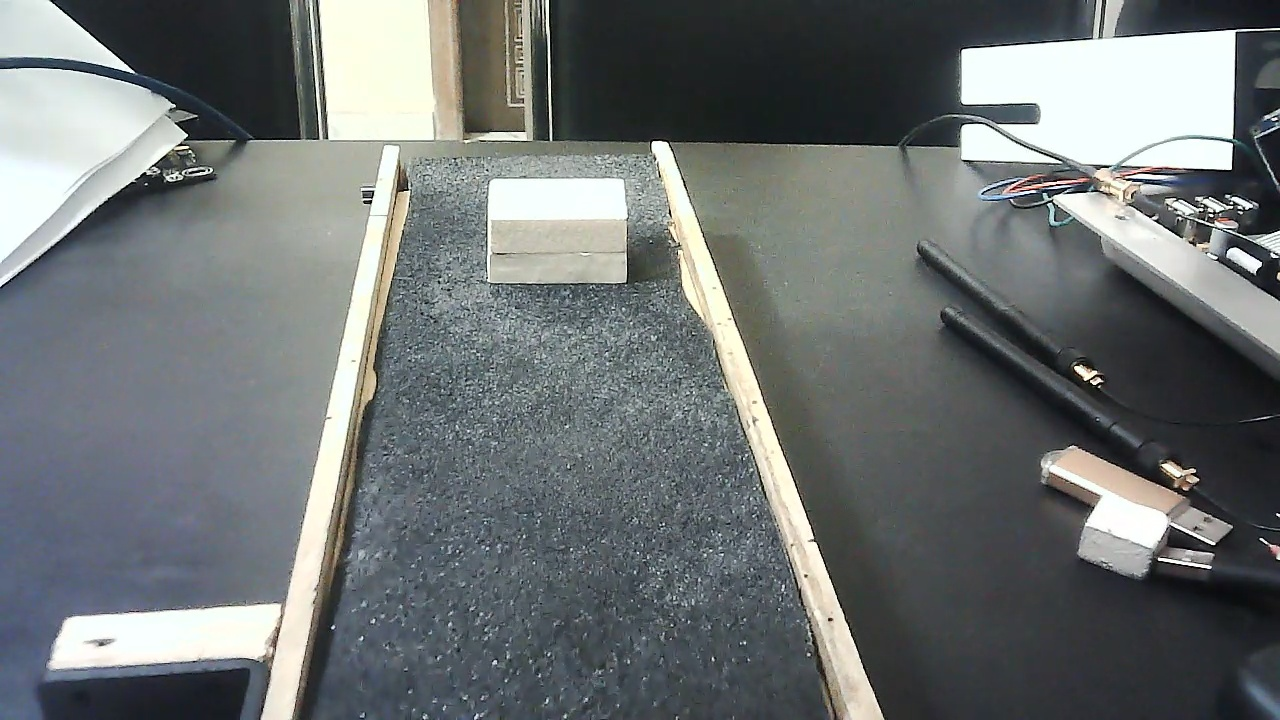BIG: (486, 158, 629, 301)
